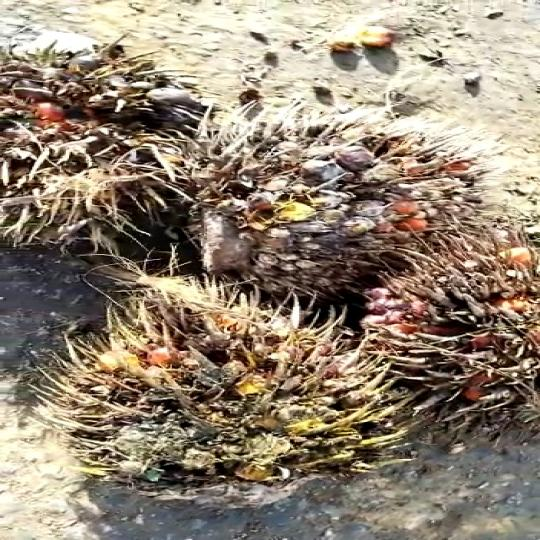terlalu masak: (38, 266, 401, 510), (180, 122, 489, 273)
